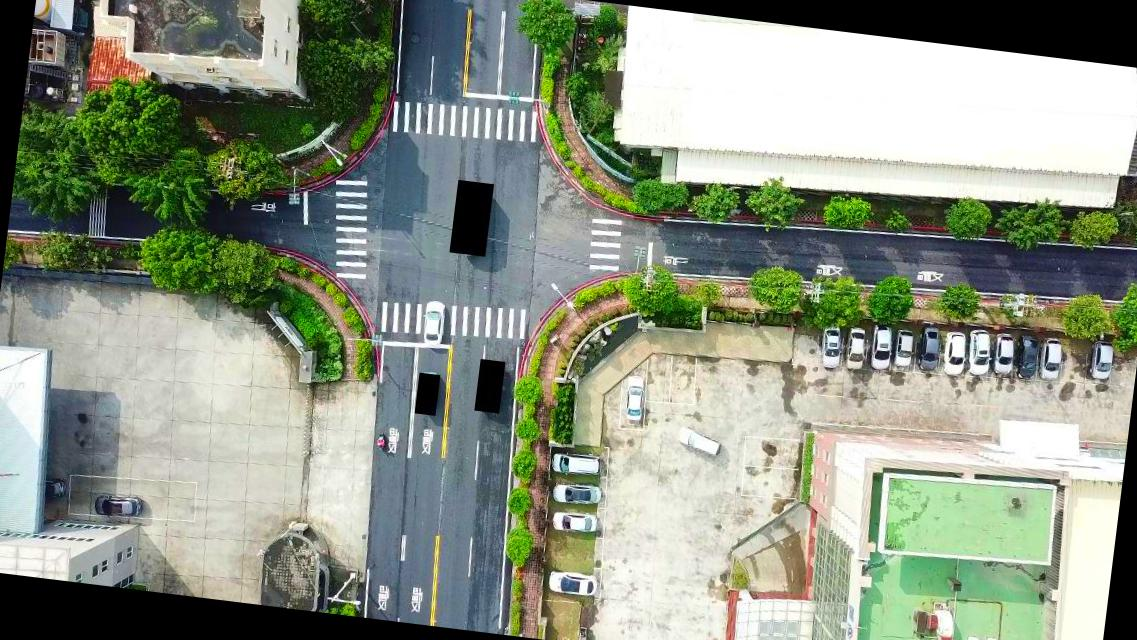vehicle: (546, 448, 601, 479), (672, 426, 722, 458), (547, 568, 596, 598), (548, 508, 598, 537), (417, 300, 446, 350), (92, 492, 142, 520), (866, 322, 894, 371), (965, 327, 992, 377), (550, 481, 601, 507), (940, 330, 967, 377), (1014, 333, 1040, 381), (914, 326, 941, 372), (1086, 339, 1114, 382), (817, 324, 843, 370), (841, 325, 866, 371), (1038, 335, 1062, 382), (624, 374, 646, 422), (990, 332, 1014, 376), (890, 328, 913, 370), (41, 476, 66, 499)
